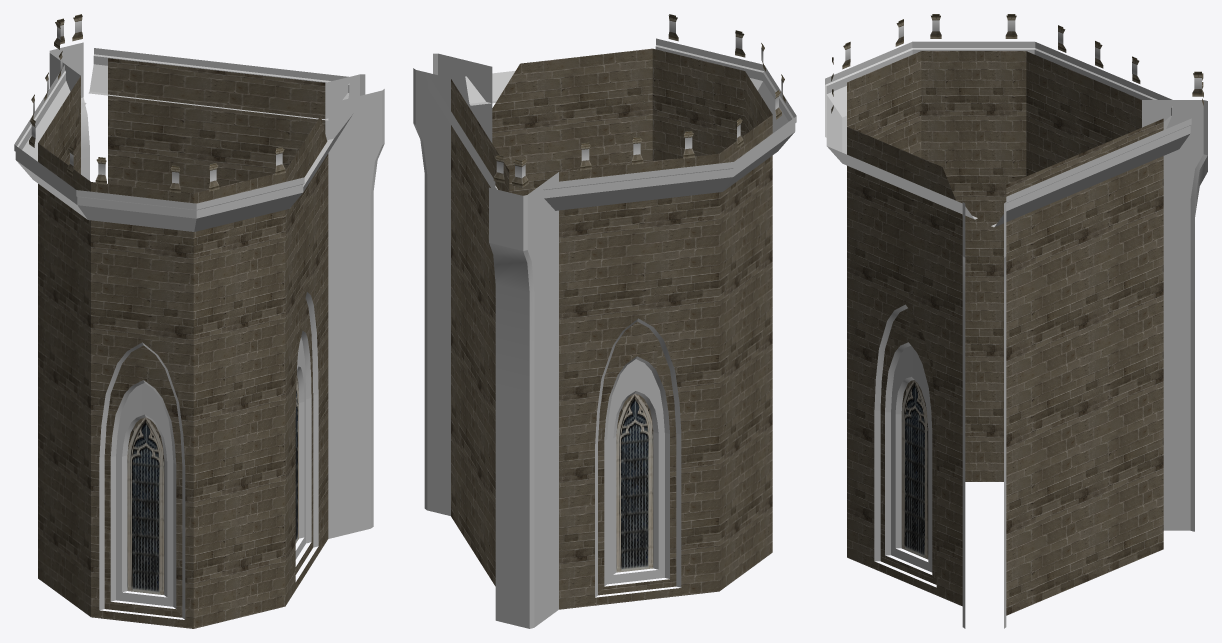
The model's file is SM_TowerUpper_Arena3.FBX.
The picture shows the model from 3 angles, left to right: view 1: azimuth 30°, elevation 25°; view 2: azimuth 150°, elevation 25°; view 3: azimuth 270°, elevation 25°; orthographic projection.
Visible parts, largest first — view 1: SM_TowerUpper_Arena3; view 2: SM_TowerUpper_Arena3; view 3: SM_TowerUpper_Arena3.
Part boxes in pixels (left/top/right/bottom): SM_TowerUpper_Arena3: left=14, top=14, right=384, bottom=628; SM_TowerUpper_Arena3: left=413, top=14, right=796, bottom=628; SM_TowerUpper_Arena3: left=825, top=14, right=1207, bottom=628.
Size of what is drawn, in the model's own units: 2802 by 2802 by 3733.
